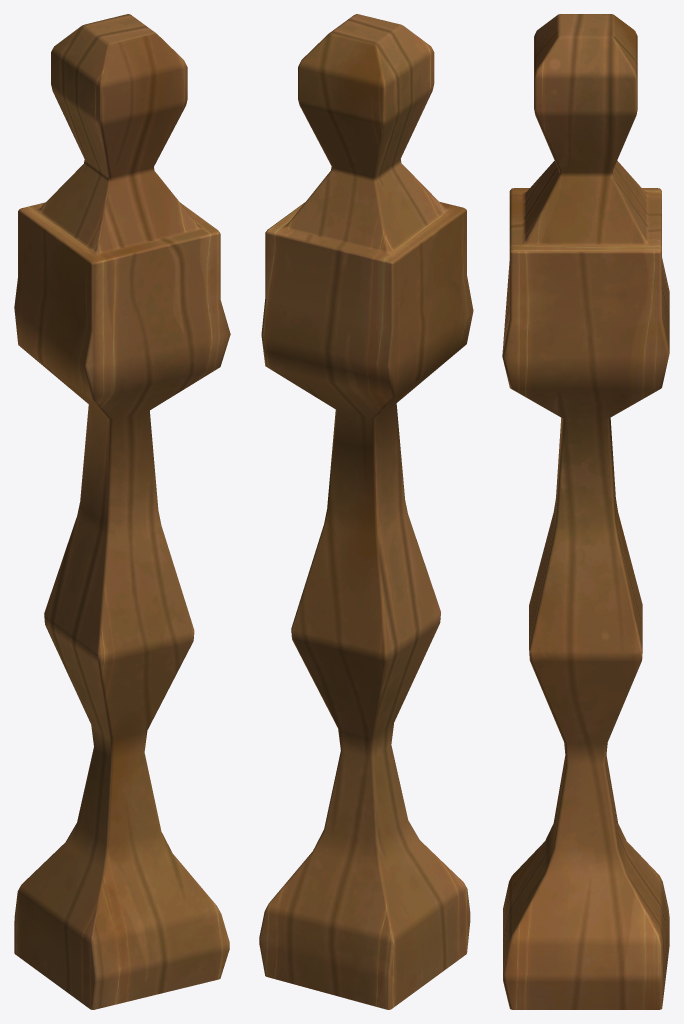
File: SM_Rail_Post.gltf
3 views of the same model, side by side, from view 1: azimuth 30°, elevation 25°; view 2: azimuth 150°, elevation 25°; view 3: azimuth 270°, elevation 25° (orthographic).
Visible parts, largest first — view 1: SM_Rail_Single; view 2: SM_Rail_Single; view 3: SM_Rail_Single.
Boxes of the visible parts, x1,y1,x2,y2 form: SM_Rail_Single: (14, 14, 230, 1009); SM_Rail_Single: (259, 14, 473, 1009); SM_Rail_Single: (502, 14, 669, 1009).
Bounding box in the file's own units: 0.2196 × 1.38 × 0.2198.
Materials: 1 (1 with a texture image).
